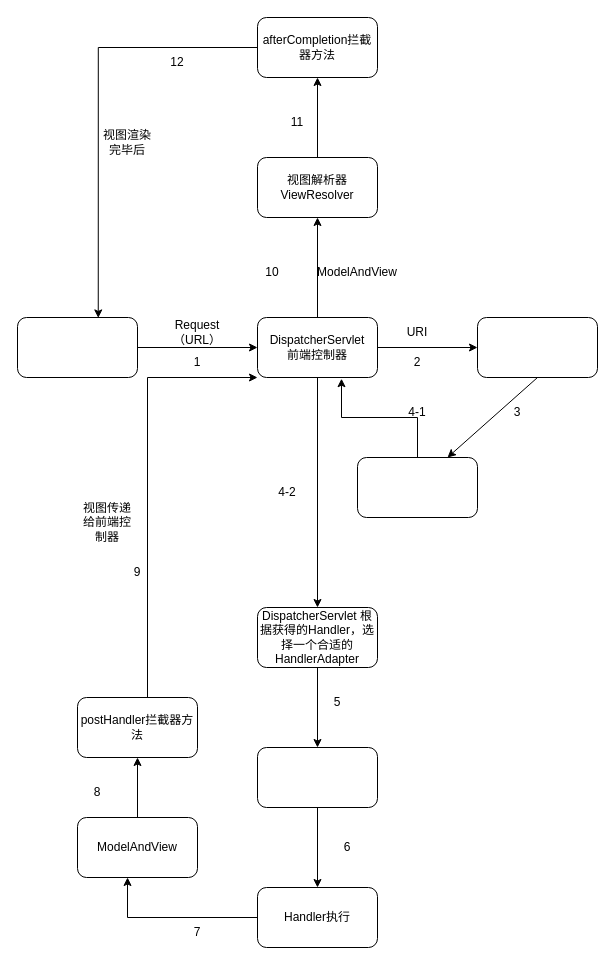
Image size: 615x965. Some labels were removed from this diagram. The shapes that lost their labels are listed below. From the top down, each one's centre as x and y in pixels, then its label:
At (77,347): "浏览器".
At (537,347): "根据URI获得HandlerMapping".
At (417,487): "Handler对象以及Handler对应的拦截器".
At (317,777): "preHandlerl拦截器方法".
